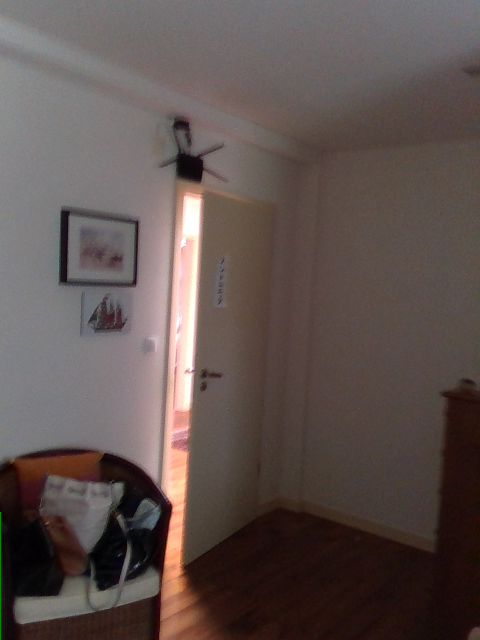semi: (158, 177, 274, 567)
